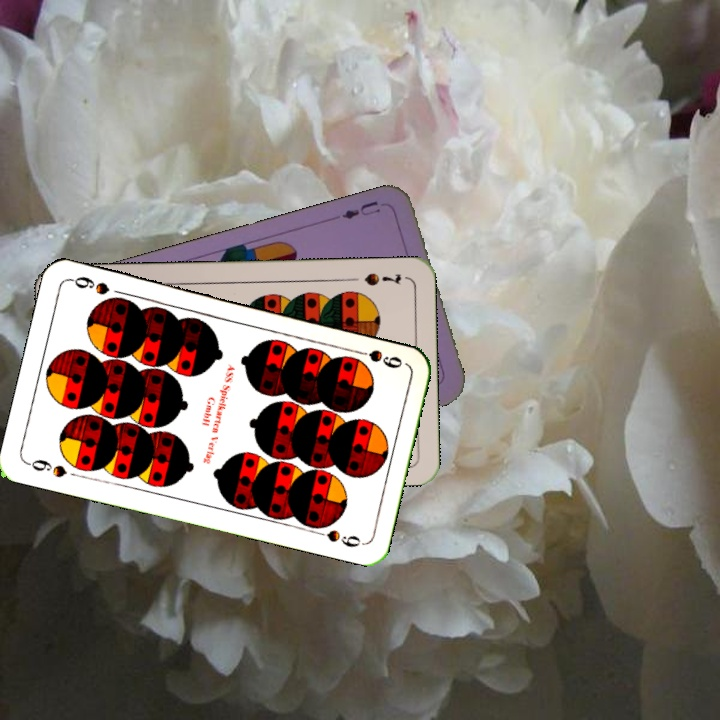EU: (338, 197, 383, 222)
S7: (360, 269, 404, 289)
S9: (348, 345, 405, 371), (23, 455, 70, 480)
